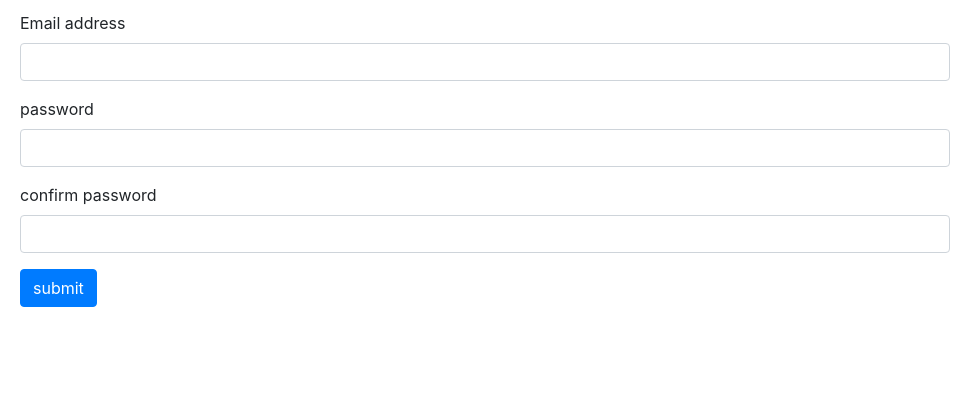
Test: App › error handling › should show confirm password if password dont match
Step 1. Type "manish@gmail.com" into the field labelled "Email address" → (485, 62), box [20,43,950,81]
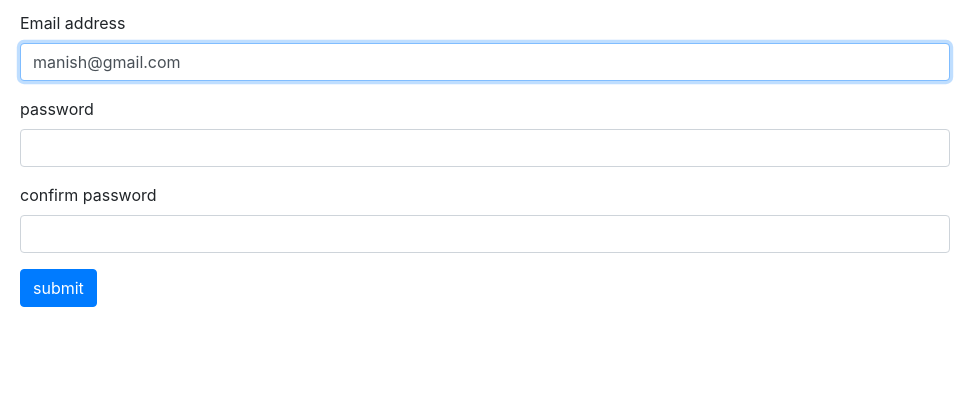
Step 2. Type "12345" into the password field labelled "password" → (485, 148), box [20,129,950,167]
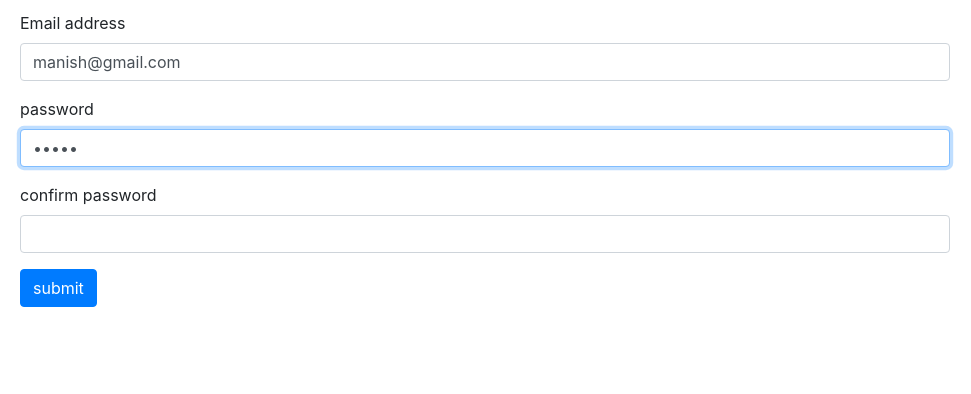
Expected: the text "the passwords does not match. Try again" is not shown
Step 3. Type "123456" into the password field labelled "confirm password" → (485, 234), box [20,215,950,253]
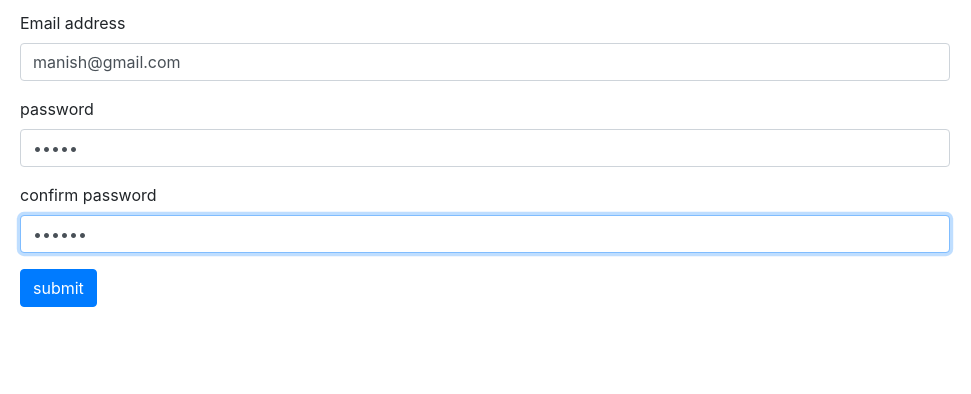
Step 4. Click the button "submit" → (58, 288), box [20,269,97,307]
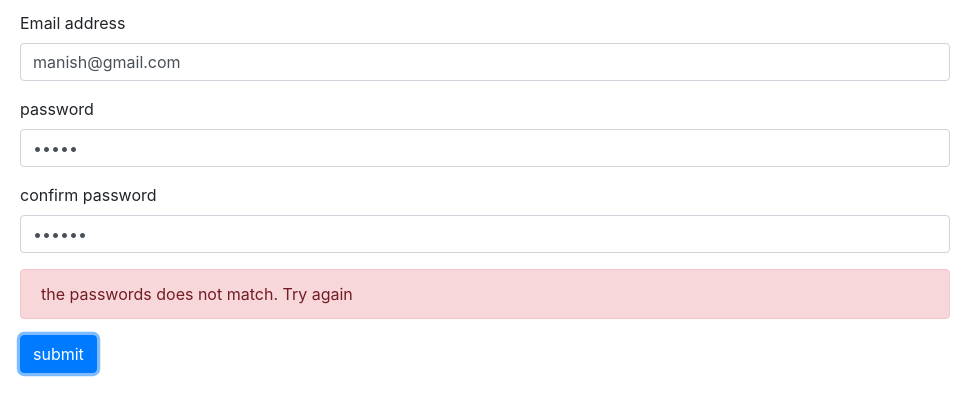
Now the text "the passwords does not match. Try again" is shown, box [20,269,950,319]
